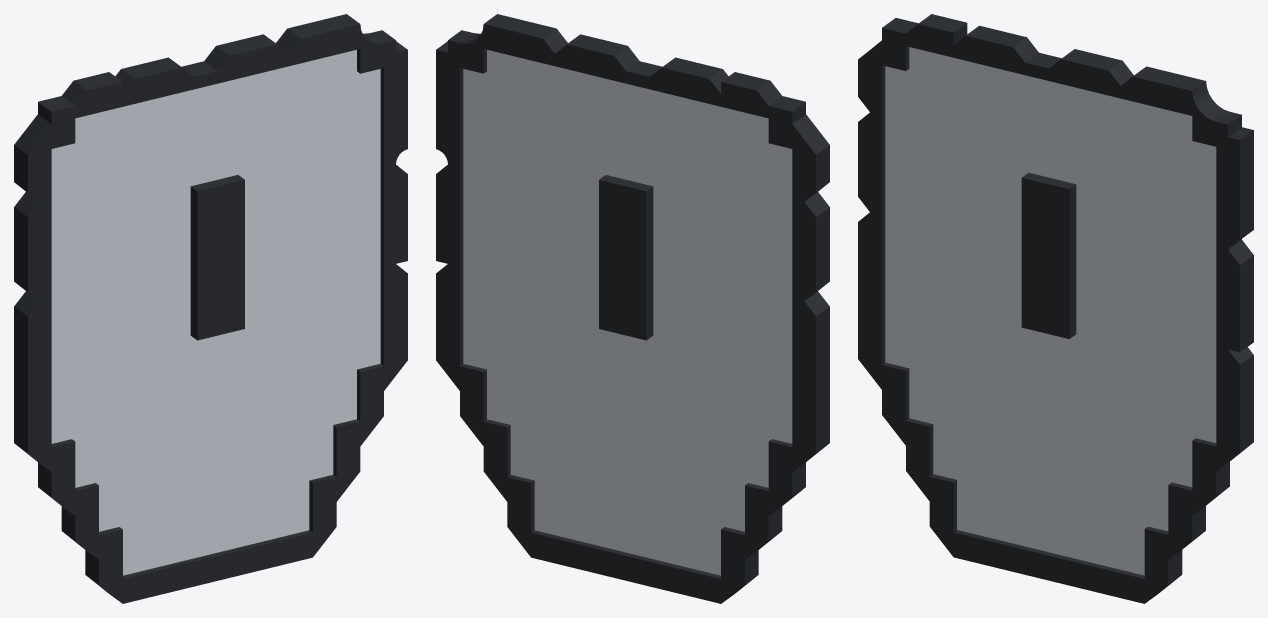
The model's file is Shield.obj.
3 renders of one model, left to right at view 1: azimuth 30°, elevation 25°; view 2: azimuth 150°, elevation 25°; view 3: azimuth 330°, elevation 25°, orthographic.
Size of the model in its own units: 16 by 21 by 1.5.
Materials: 1 (1 with a texture image).
